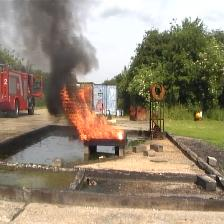fire: (59, 83, 125, 141)
